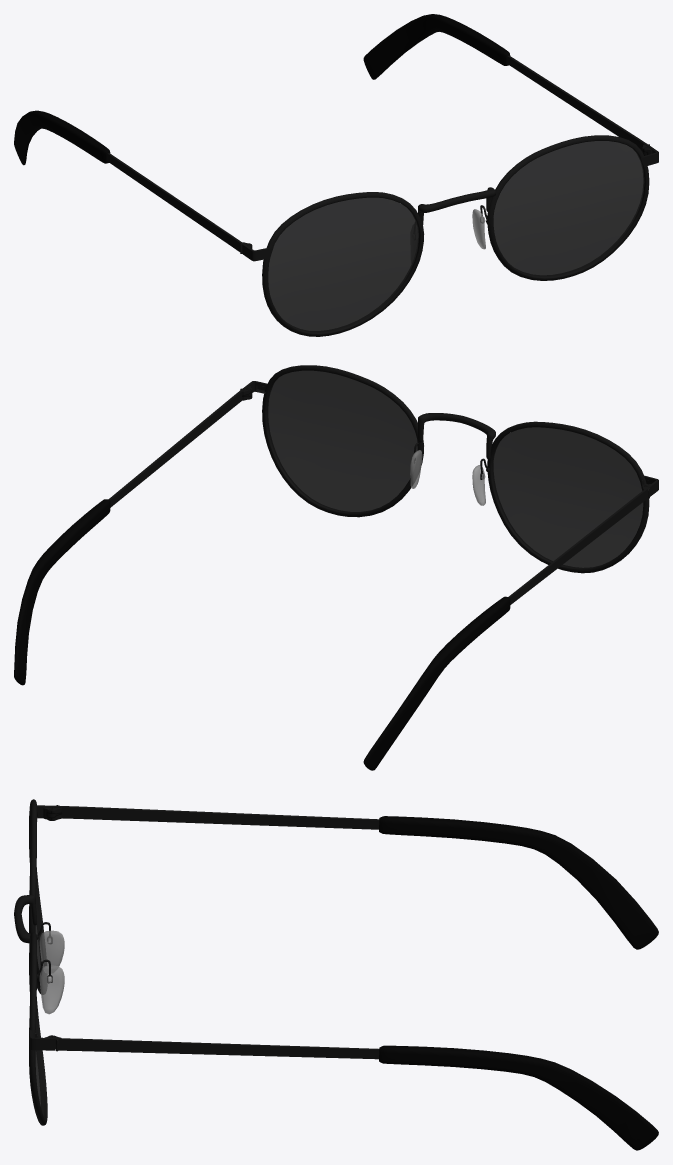
The model's file is glasses1.glb.
3 views of the same model, one above another, from view 1: azimuth 30°, elevation 25°; view 2: azimuth 150°, elevation 25°; view 3: azimuth 270°, elevation 25° (orthographic). The views are drawn at different scales.
Visible parts, largest first — view 1: Plane_Tommy_01_0; view 2: Plane_Tommy_01_0; view 3: Plane_Tommy_01_0.
Part boxes in pixels (bbox=[...]): Plane_Tommy_01_0: bbox=[14, 14, 658, 336]; Plane_Tommy_01_0: bbox=[14, 365, 658, 770]; Plane_Tommy_01_0: bbox=[14, 799, 658, 1150].
Size of the model in its own units: 2.93 by 0.9736 by 3.4.
Materials: 1 (1 with a texture image).
